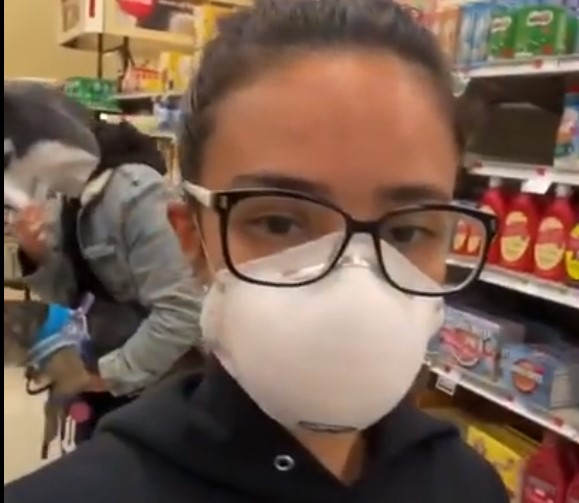face_with_mask: (167, 19, 493, 439)
